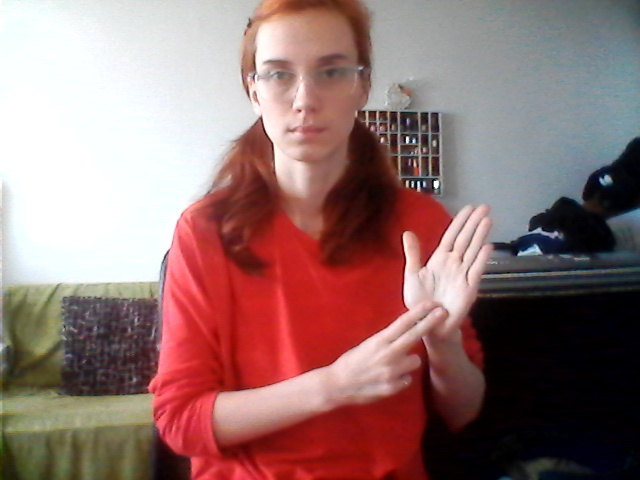n: (368, 201, 499, 403)
